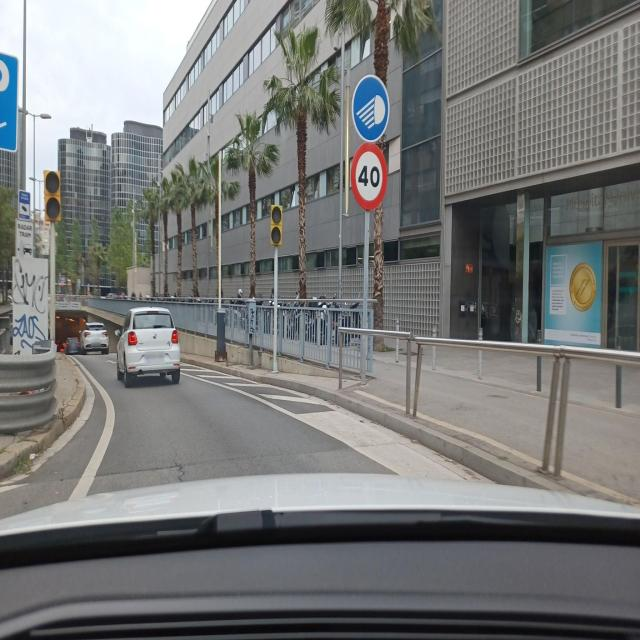car: (116, 306, 181, 388), (78, 322, 109, 354), (62, 334, 80, 356)
